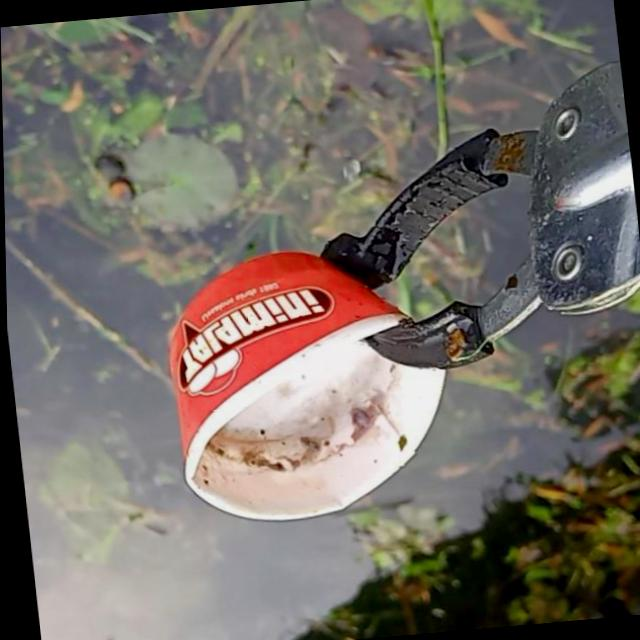Paper: (153, 235, 463, 533)
